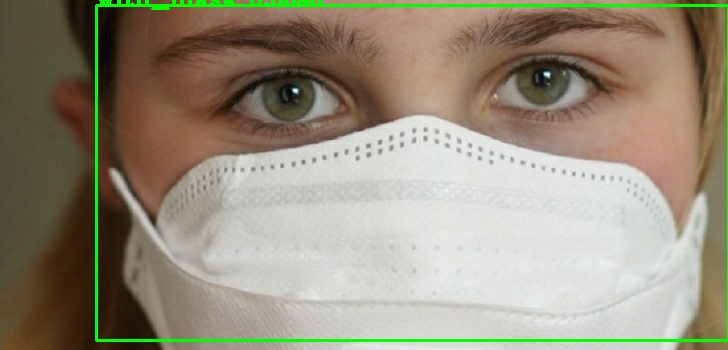with_mask: (133, 2, 713, 350)
